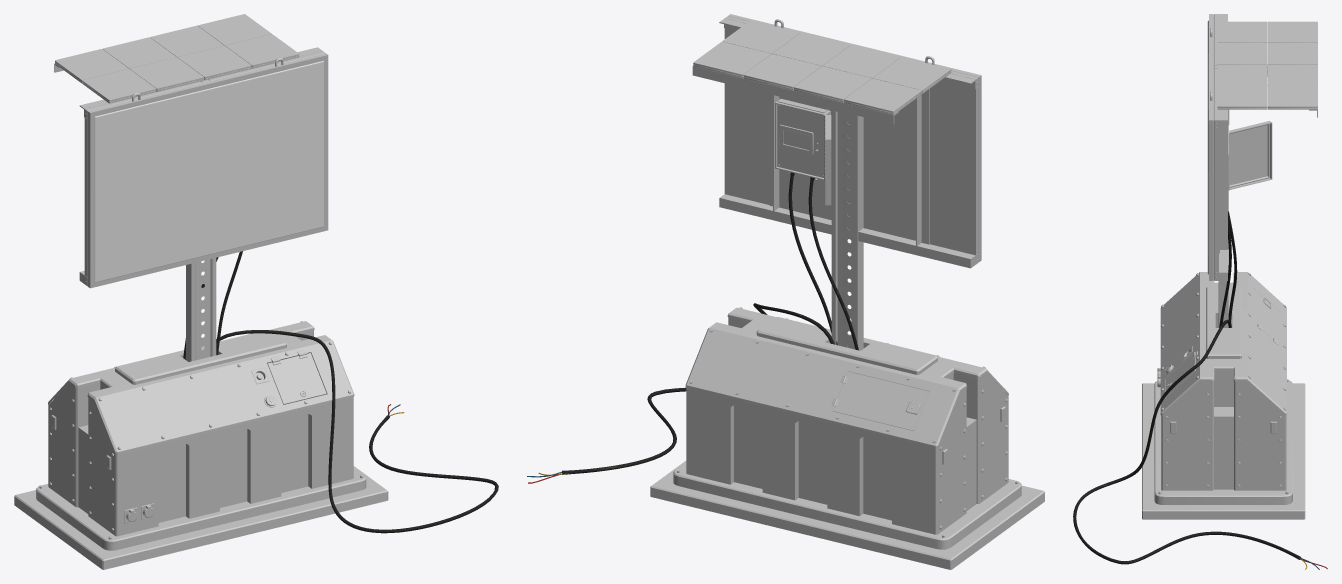
The model's file is KB3D_DMZ_Telebim_A.fbx.
The picture shows the model from 3 angles, left to right: view 1: azimuth 30°, elevation 25°; view 2: azimuth 150°, elevation 25°; view 3: azimuth 270°, elevation 25°; orthographic projection. The views are drawn at different scales.
Parts seen in each view (by area): view 1: KB3D_DMZ_Telebim_A_Main; view 2: KB3D_DMZ_Telebim_A_Main; view 3: KB3D_DMZ_Telebim_A_Main.
Part boxes in pixels (x1,y1,x2,y2): KB3D_DMZ_Telebim_A_Main: [14, 14, 498, 569]; KB3D_DMZ_Telebim_A_Main: [527, 14, 1044, 569]; KB3D_DMZ_Telebim_A_Main: [1073, 14, 1327, 569].
Bounding box in the file's own units: 414 × 437 × 253.
